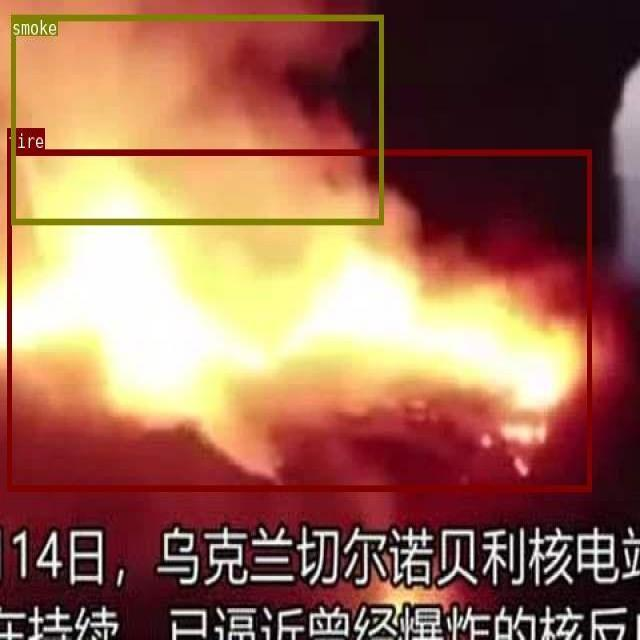fire: (6, 149, 591, 490)
smoke: (11, 14, 383, 224)
